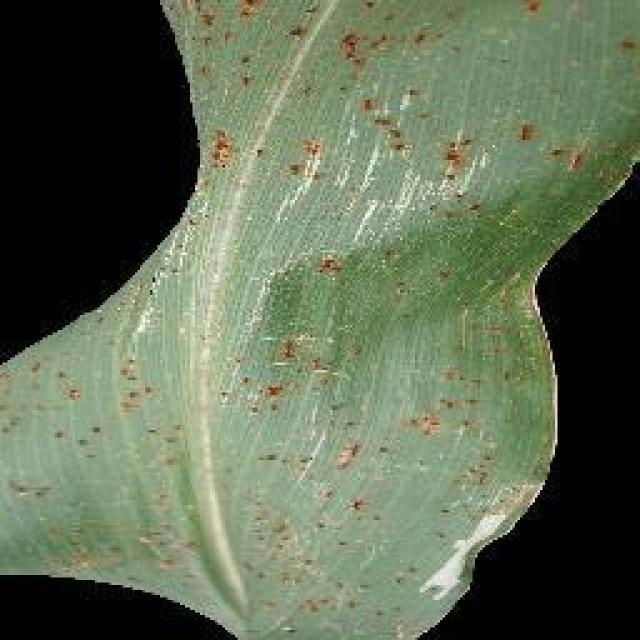Corn Common Rust: (125, 20, 548, 640)
